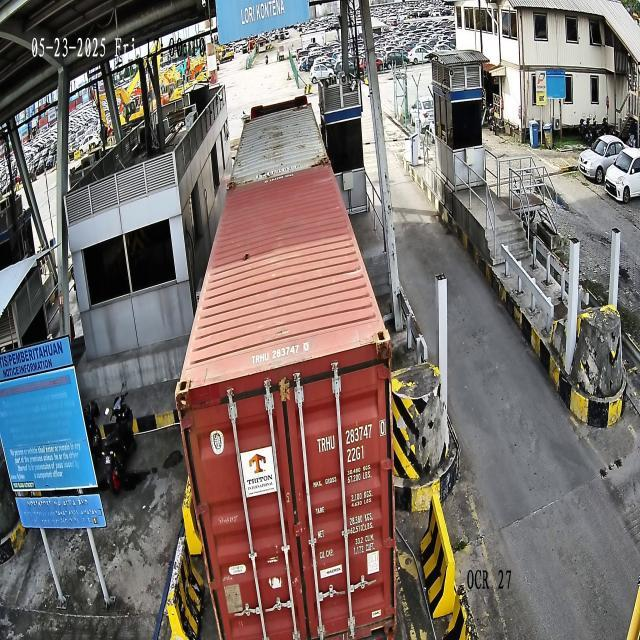ISO: (346, 444, 365, 464)
container_number: (316, 418, 386, 456)
